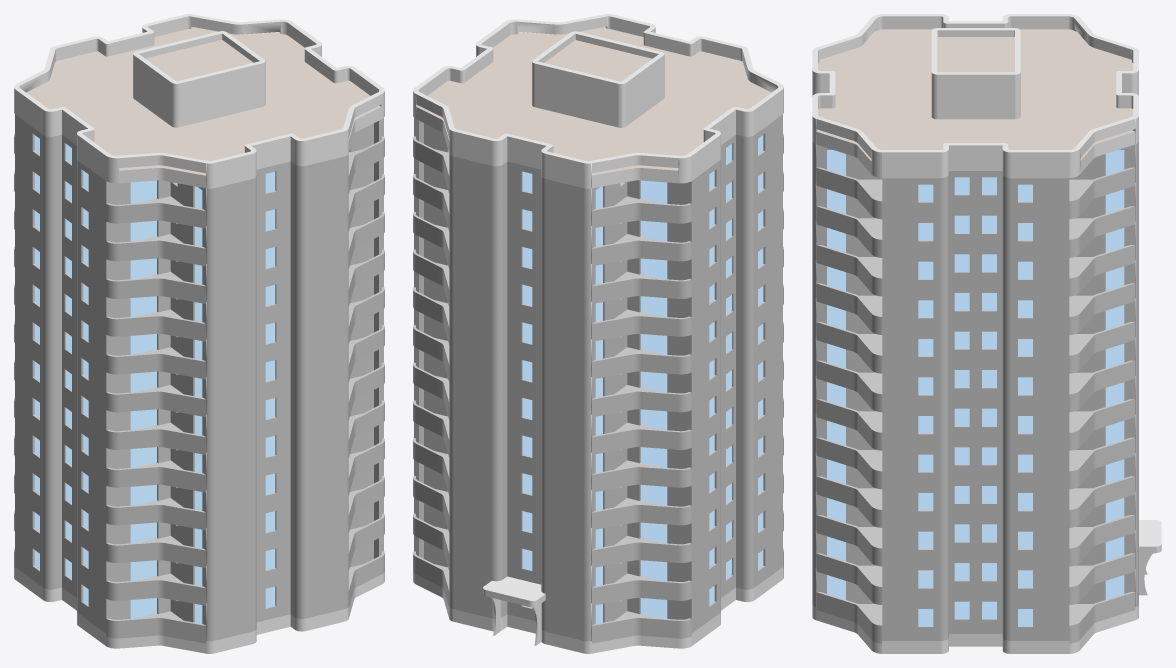
Rendered from monolith-house4.glb.
3 renders of one model, left to right at view 1: azimuth 30°, elevation 25°; view 2: azimuth 150°, elevation 25°; view 3: azimuth 270°, elevation 25°, orthographic. The views are drawn at different scales.
Parts seen in each view (by area): view 1: 34534к54#1.001, 34534к54#1.003, 5720, 34534к54#1.002, 34534к54.038, 34534к54.016, 34534к54.002, 34534к54.028, 34534к54.035, 34534к54.012, 34534к54.014, 34534к54.041 (+32 smaller); view 2: 34534к54#1.002, 34534к54#1, 5720, 34534к54#1.001, 34534к54.042, 34534к54.019, 34534к54.032, 34534к54.020, 34534к54.005, 34534к54.037, 34534к54.039, 34534к54.011 (+33 smaller); view 3: 34534к54#1.003, 34534к54#1, 34534к54#1.001, 34534к54#1.002, 5720, 34534к54.043, 34534к54.047, 34534к54.027, 34534к54.021, 34534к54.026, 34534к54.046, 34534к54.044 (+20 smaller).
Boxes of the visible parts, x1,y1,x2,y2 form: 34534к54#1.001: (75,113,270,188); 34534к54#1.003: (221,58,384,166); 5720: (133,31,265,127); 34534к54#1.002: (14,36,152,143); 34534к54.038: (75,144,270,228); 34534к54.016: (75,295,270,379); 34534к54.002: (75,559,270,643); 34534к54.028: (75,408,270,492); 34534к54.035: (75,446,270,530); 34534к54.012: (75,258,270,341); 34534к54.014: (75,182,270,266); 34534к54.041: (75,522,270,605); 34534к54#1.002: (527,113,722,188); 34534к54#1: (413,58,575,166); 5720: (532,31,664,127); 34534к54#1.001: (645,36,783,143); 34534к54.042: (527,144,722,228); 34534к54.019: (527,295,722,379); 34534к54.032: (527,408,722,492); 34534к54.020: (527,446,722,530); 34534к54.005: (527,258,722,341); 34534к54.037: (527,522,722,605); 34534к54.039: (527,182,722,266); 34534к54.011: (527,333,722,417); 34534к54#1.003: (812,83,975,178); 34534к54#1: (975,83,1138,178); 34534к54#1.001: (812,14,975,95); 34534к54#1.002: (975,14,1138,95); 5720: (931,28,1020,119); 34534к54.043: (975,142,1138,219); 34534к54.047: (812,141,975,219); 34534к54.027: (812,450,975,527); 34534к54.021: (975,451,1138,527); 34534к54.026: (975,374,1138,450); 34534к54.046: (975,181,1138,257); 34534к54.044: (812,180,975,257).
Size of the model in its own units: 23.09 by 41.48 by 24.6.
